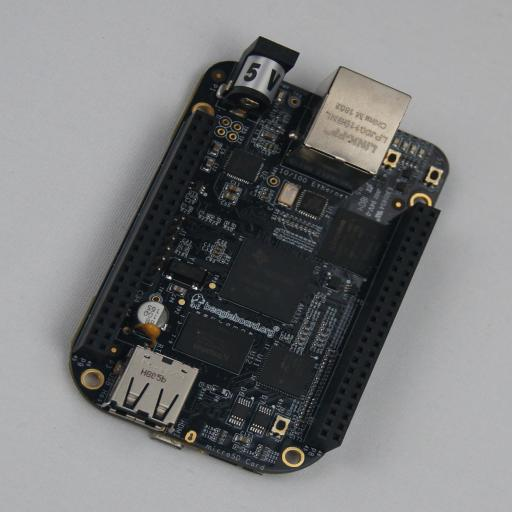Beaglebone Black: (69, 36, 449, 475)
